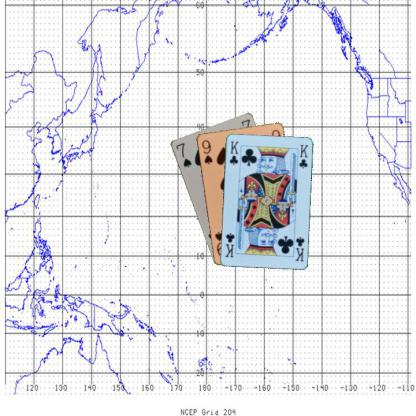7s: (174, 140, 192, 169)
9s: (199, 137, 213, 165)
Kc: (292, 234, 306, 262), (227, 138, 240, 166)
